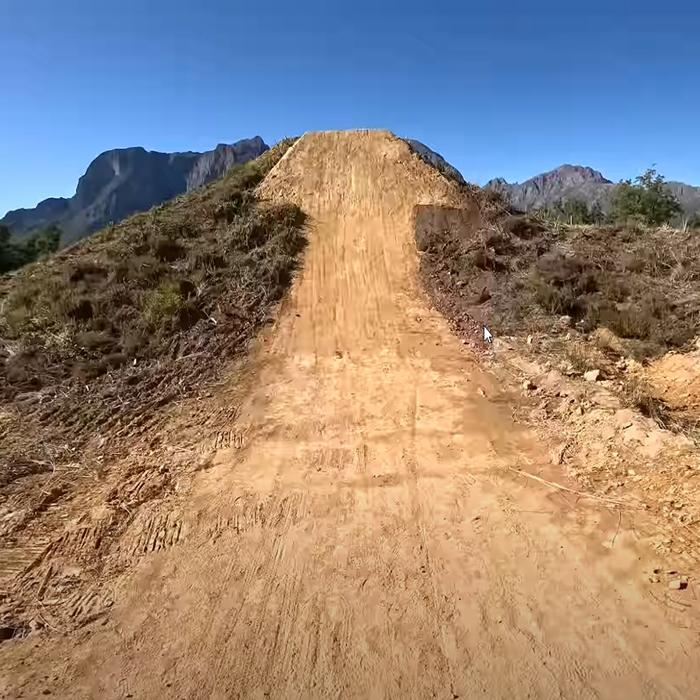turn: (256, 117, 460, 218)
